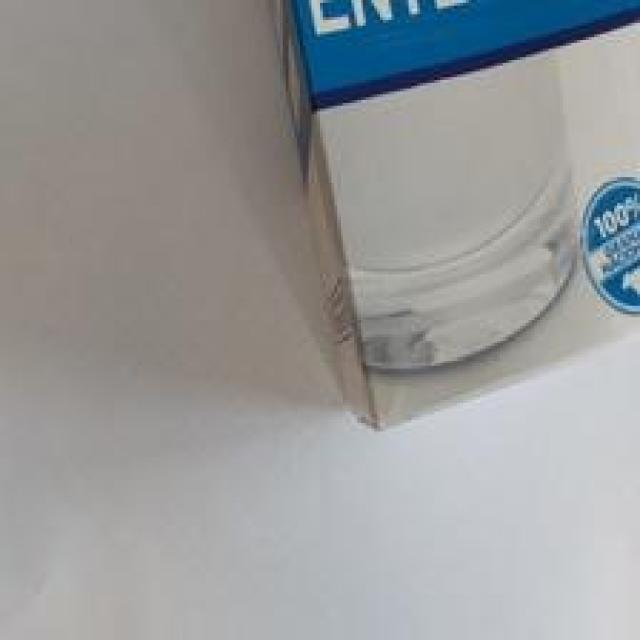Carton: (263, 0, 640, 434)
